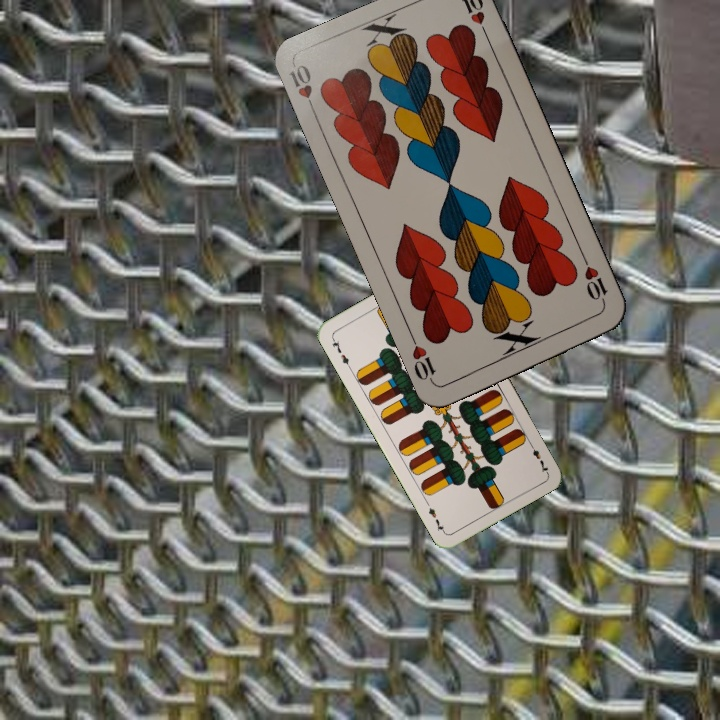E7: (525, 438, 551, 475), (328, 334, 353, 371)
H10: (285, 60, 319, 119), (578, 253, 611, 309)
